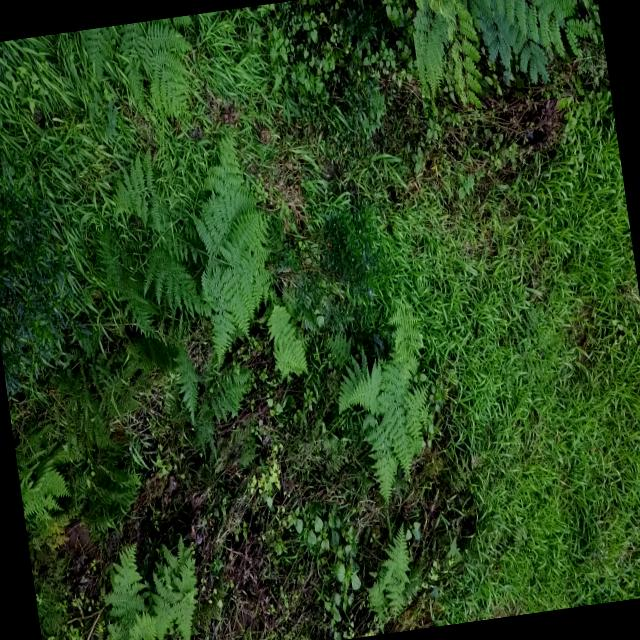Mysore-Thorn-Weed: (406, 0, 611, 117)
